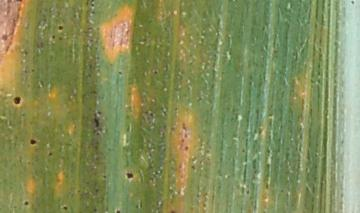tarspot: (12, 95, 22, 106), (125, 171, 134, 180), (1, 33, 9, 43), (93, 117, 100, 128), (29, 138, 38, 146), (101, 173, 109, 182), (62, 204, 70, 212), (46, 150, 54, 158), (183, 144, 190, 153), (57, 24, 64, 32), (29, 67, 38, 73), (116, 69, 123, 76), (23, 199, 29, 207), (190, 164, 196, 171), (96, 110, 102, 117), (168, 209, 178, 213), (50, 34, 56, 40), (152, 69, 158, 75), (90, 3, 95, 8), (114, 209, 120, 213)
